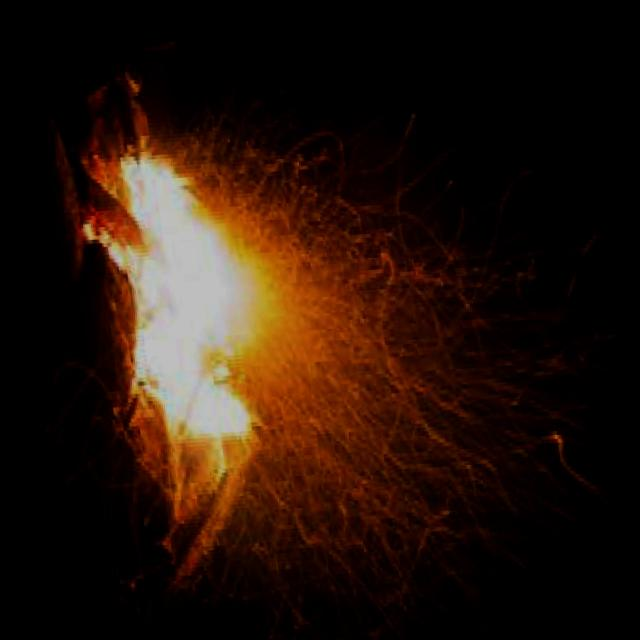Fire: (80, 115, 293, 482)
